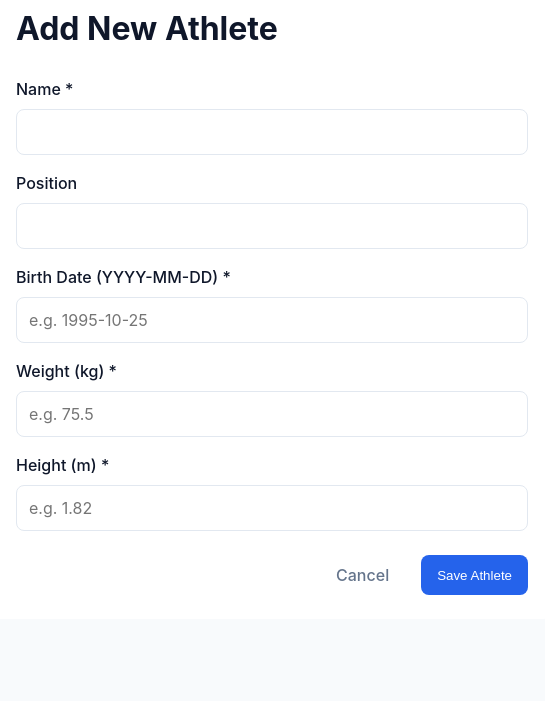
Test: AthleteCreatePage › validates number formats
In the field labelled "Weight (kg) *": coordinates (272, 414) [16,391,528,437], type "abc"
Click the button "Save Athlete": coordinates (475, 575) [421,555,528,595]
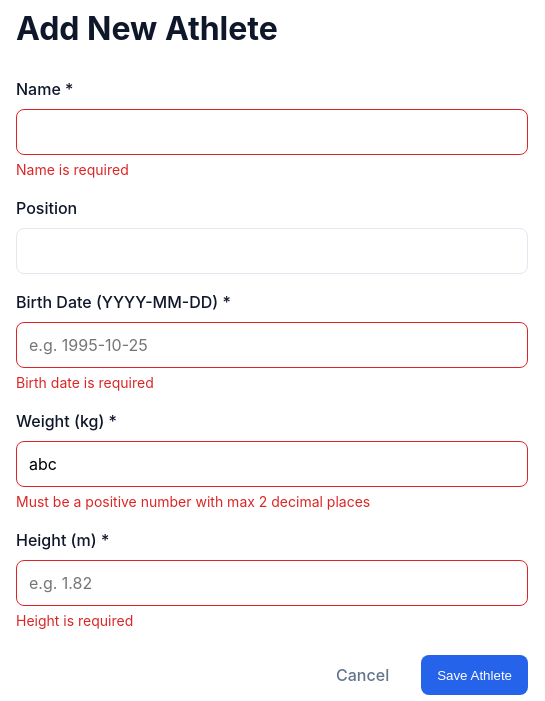
Check: the text "Must be a positive number with max 2 decimal places" is shown, box [16,493,370,510]
Replace the text in the field labelled "Weight (kg) *" with "75.123": coordinates (272, 464) [16,441,528,487]
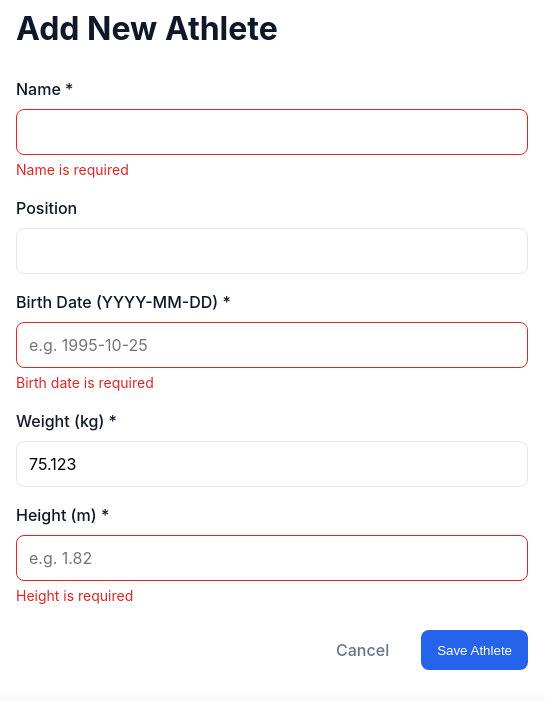
In the field labelled "Height (m) *": coordinates (272, 558) [16,535,528,581], type "1.8234"
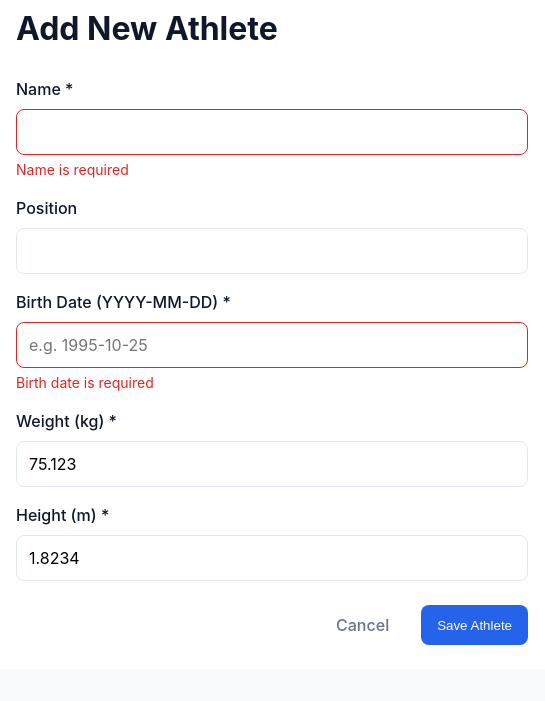
Click the button "Save Athlete": coordinates (475, 625) [421,605,528,645]
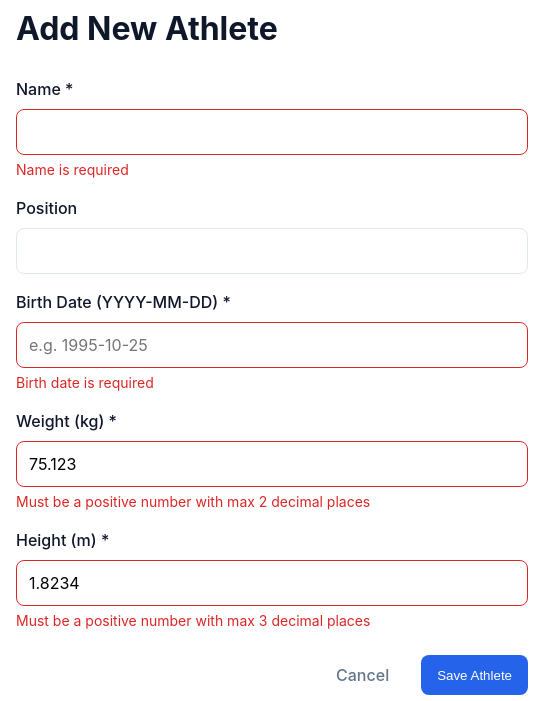
Check: the text "Must be a positive number with max 2 decimal places" is shown, box [16,493,370,510]
Check: the text "Must be a positive number with max 3 decimal places" is shown, box [16,612,370,629]
Replace the text in the field labelled "Weight (kg) *" with "-10": coordinates (272, 464) [16,441,528,487]
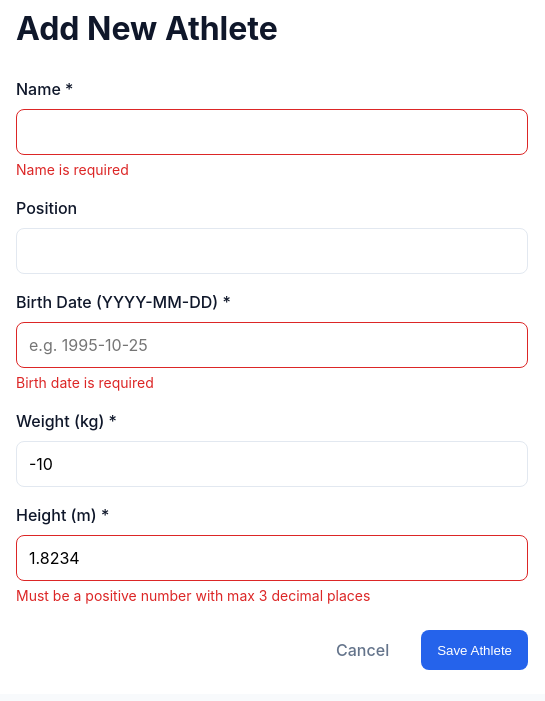
Click the button "Save Athlete": coordinates (475, 650) [421,630,528,670]
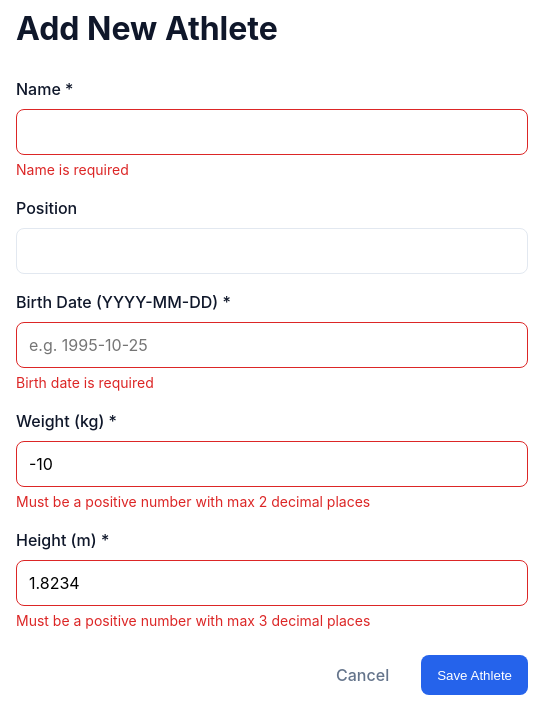
Check: the text "Must be a positive number with max 2 decimal places" is shown, box [16,493,370,510]
